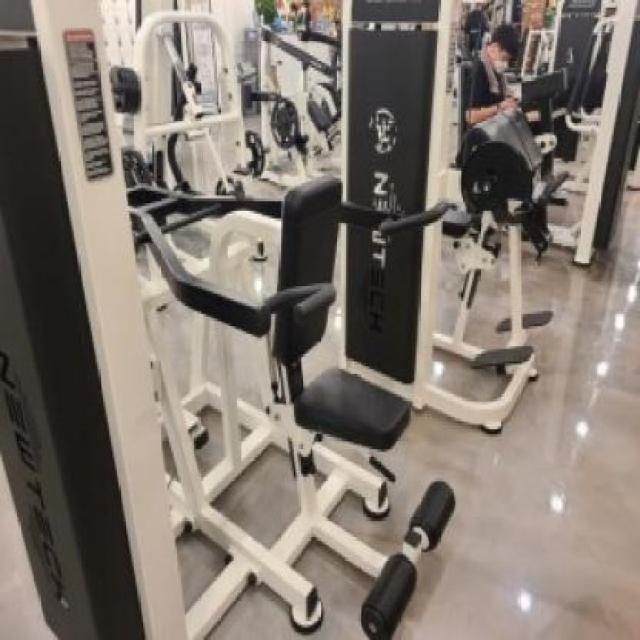seated dip machine: (0, 174, 455, 640)
